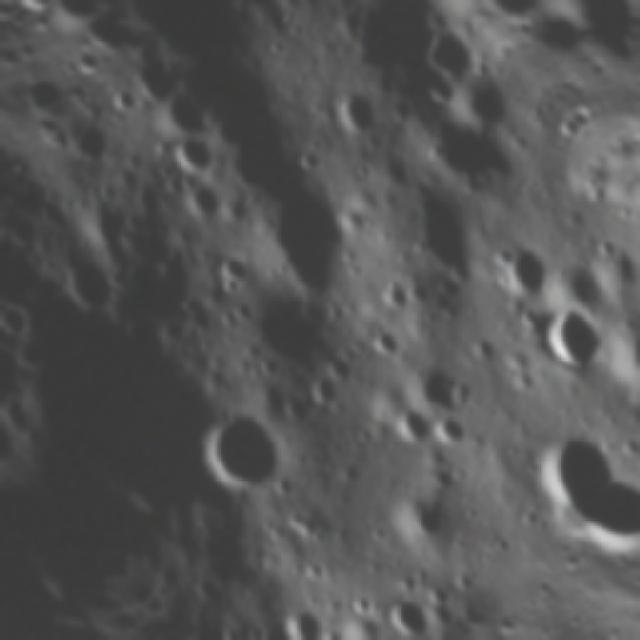crater: (233, 160, 387, 314), (180, 390, 306, 516), (230, 285, 335, 389), (524, 423, 625, 525), (526, 296, 620, 390), (481, 232, 570, 321), (232, 586, 356, 640), (411, 12, 489, 90), (54, 251, 129, 326), (322, 80, 395, 152), (158, 126, 230, 194), (0, 320, 43, 422), (59, 112, 124, 178), (374, 587, 442, 640), (384, 401, 444, 461), (607, 307, 640, 413), (173, 176, 232, 235), (426, 406, 480, 460), (402, 496, 456, 550), (273, 597, 338, 640), (370, 276, 421, 326), (302, 369, 351, 418), (0, 296, 40, 352), (396, 272, 442, 318), (287, 142, 331, 186), (103, 82, 146, 125), (547, 113, 590, 156), (368, 329, 409, 371), (319, 352, 359, 392), (212, 271, 248, 307), (431, 271, 466, 307)
